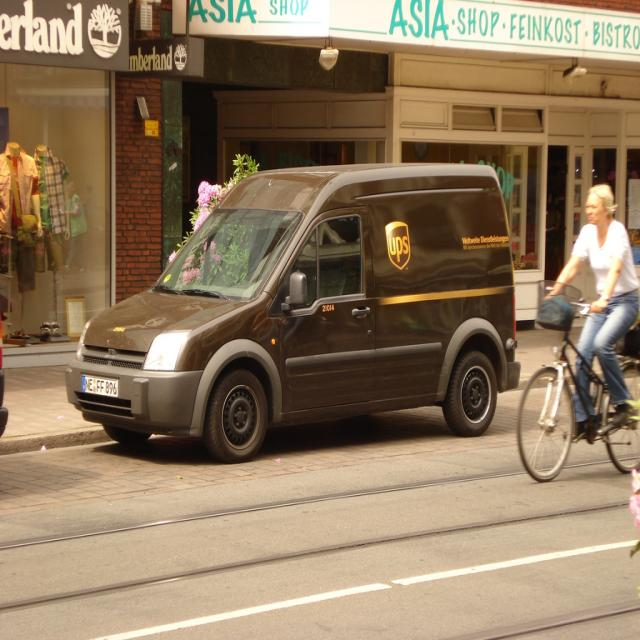ups: (386, 223, 412, 271)
